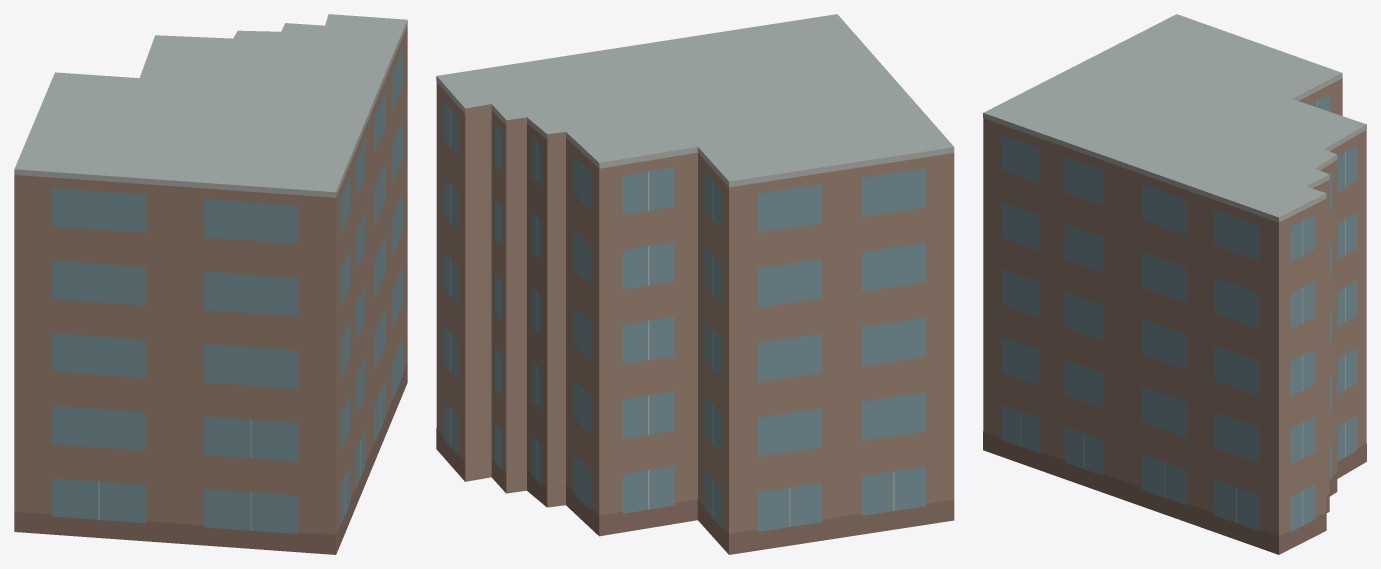
File: survey-upis-32791107.glb
3 views of the same model, side by side, from view 1: azimuth 30°, elevation 25°; view 2: azimuth 150°, elevation 25°; view 3: azimuth 270°, elevation 25° (orthographic). The views are drawn at different scales.
Parts seen in each view (by area): view 1: survey-upis-32791107.tmp; view 2: survey-upis-32791107.tmp; view 3: survey-upis-32791107.tmp.
Part boxes in pixels (x1,y1,x2,y2): survey-upis-32791107.tmp: (14,14,407,554); survey-upis-32791107.tmp: (436,14,954,554); survey-upis-32791107.tmp: (983,14,1366,554).
Size of the model in its own units: 20.38 by 15.75 by 16.23.
